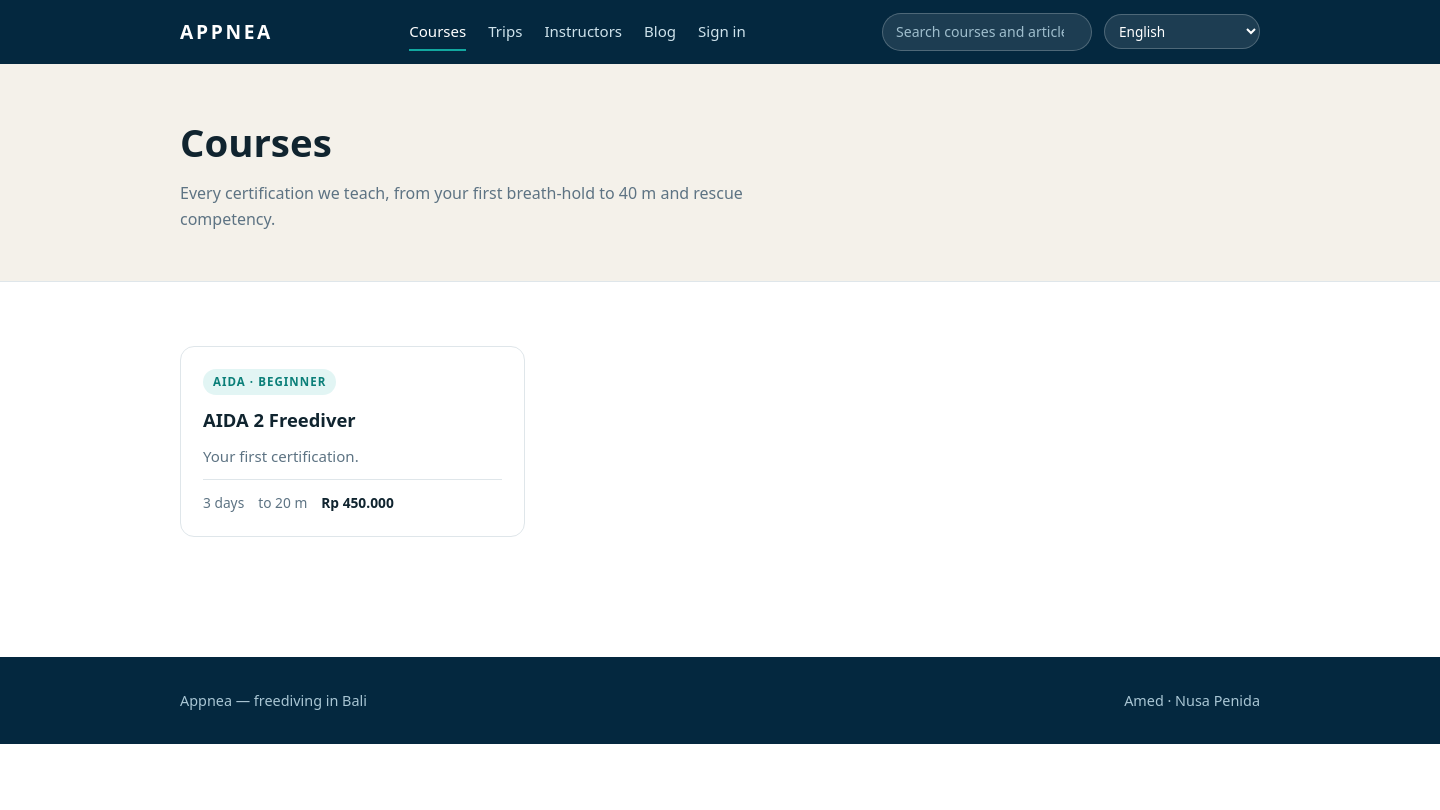
Test case: client-side navigation › shows the next page without a manual reload
Check: the heading "AIDA 2 Freediver" is shown, box [203,407,356,432]
Click the link "Trips" at (505, 31), box [488,21,522,41]
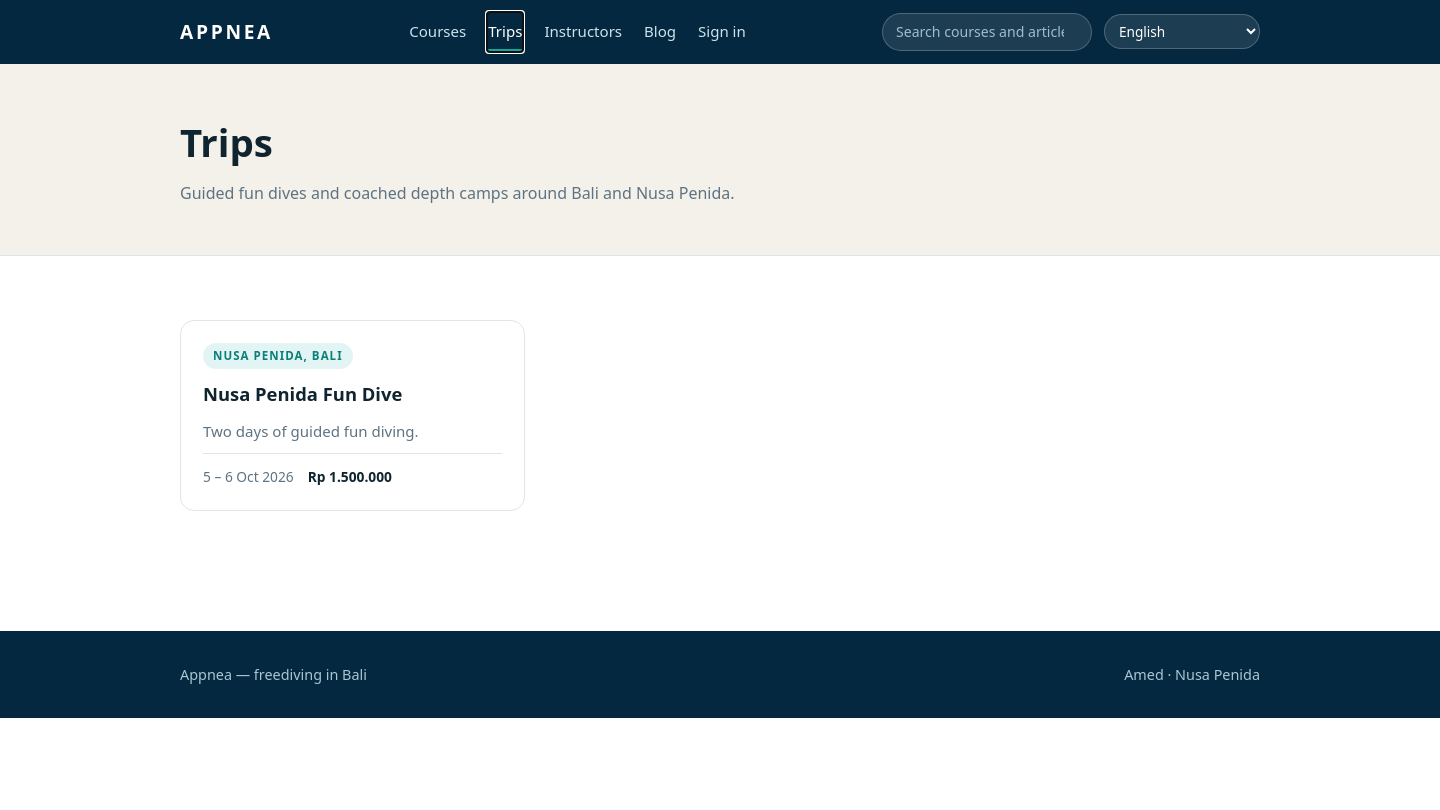
Check: the heading "Nusa Penida Fun Dive" is shown, box [203,382,402,406]
